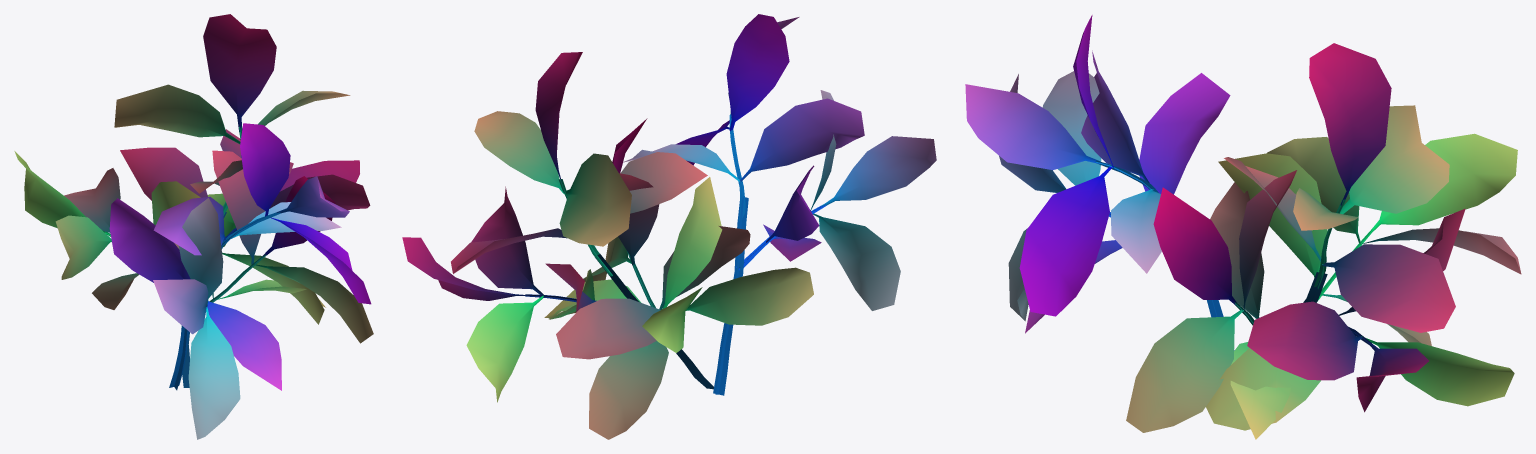
File: European_Spindle_wk1ncbxja_Mid_wk1ncbxja_VarF_LOD0.fbx
3 renders of one model, left to right at view 1: azimuth 30°, elevation 25°; view 2: azimuth 150°, elevation 25°; view 3: azimuth 270°, elevation 25°, orthographic. The views are drawn at different scales.
Visible parts, largest first — view 1: _kyqm_VarF_LOD1; view 2: _kyqm_VarF_LOD1; view 3: _kyqm_VarF_LOD1.
Boxes of the visible parts, x1=… form: _kyqm_VarF_LOD1: x1=14, y1=14, x2=373, y2=439; _kyqm_VarF_LOD1: x1=402, y1=14, x2=936, y2=439; _kyqm_VarF_LOD1: x1=965, y1=15, x2=1521, y2=439.
Bounding box in the file's own units: 26.83 × 23.94 × 29.51.
